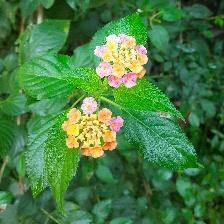common lanthana: (62, 93, 125, 158)
